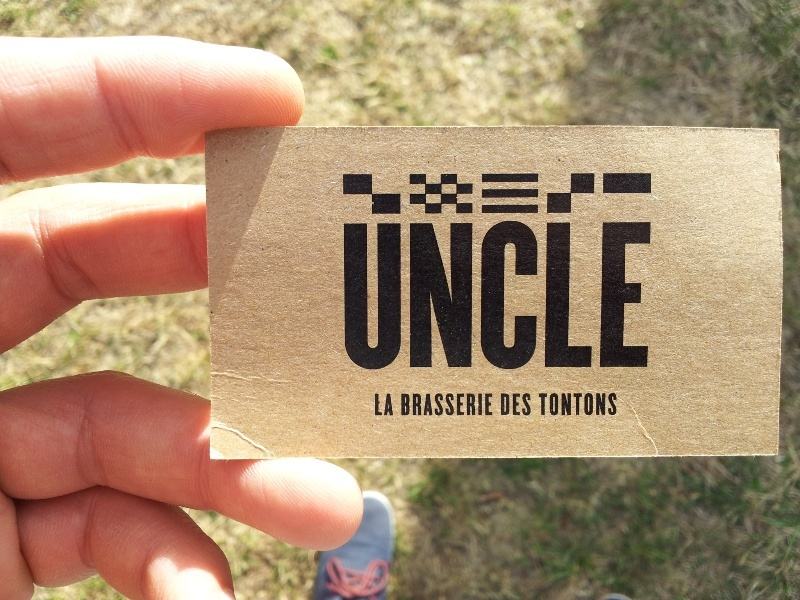text: (641, 222, 657, 370), (353, 222, 368, 370), (369, 222, 384, 370), (385, 222, 400, 370), (401, 222, 416, 370), (417, 222, 432, 370), (433, 222, 448, 370), (449, 222, 464, 370), (465, 222, 480, 370), (481, 222, 496, 370), (497, 222, 512, 370), (513, 222, 528, 370), (529, 222, 544, 370), (545, 222, 560, 370), (561, 222, 576, 370), (577, 222, 592, 370), (593, 222, 608, 370), (609, 222, 624, 370), (625, 222, 640, 370), (342, 222, 352, 370), (401, 392, 416, 417), (417, 392, 432, 417), (433, 392, 448, 417), (449, 392, 464, 417), (465, 392, 480, 417), (513, 392, 528, 417), (545, 392, 560, 417), (561, 392, 576, 417), (577, 392, 592, 417), (593, 392, 608, 417), (481, 392, 495, 417), (499, 392, 512, 417), (373, 392, 384, 417), (385, 392, 396, 417), (609, 392, 620, 417), (538, 392, 544, 417), (529, 392, 533, 417)
